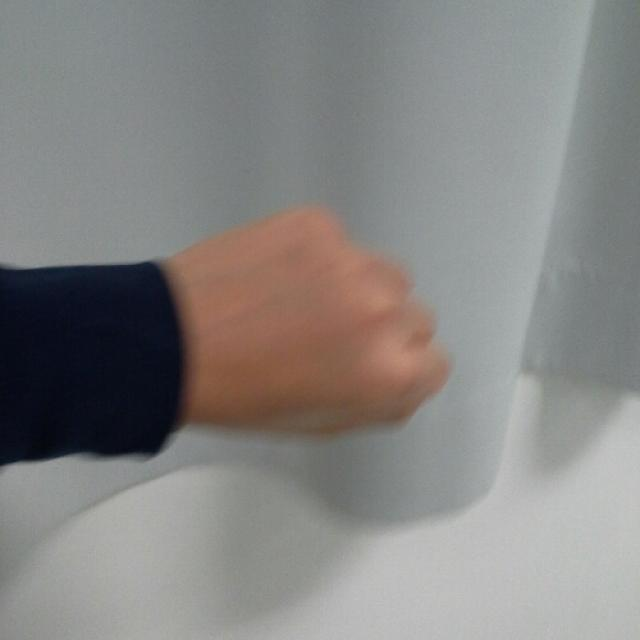rock: (206, 203, 454, 440)
